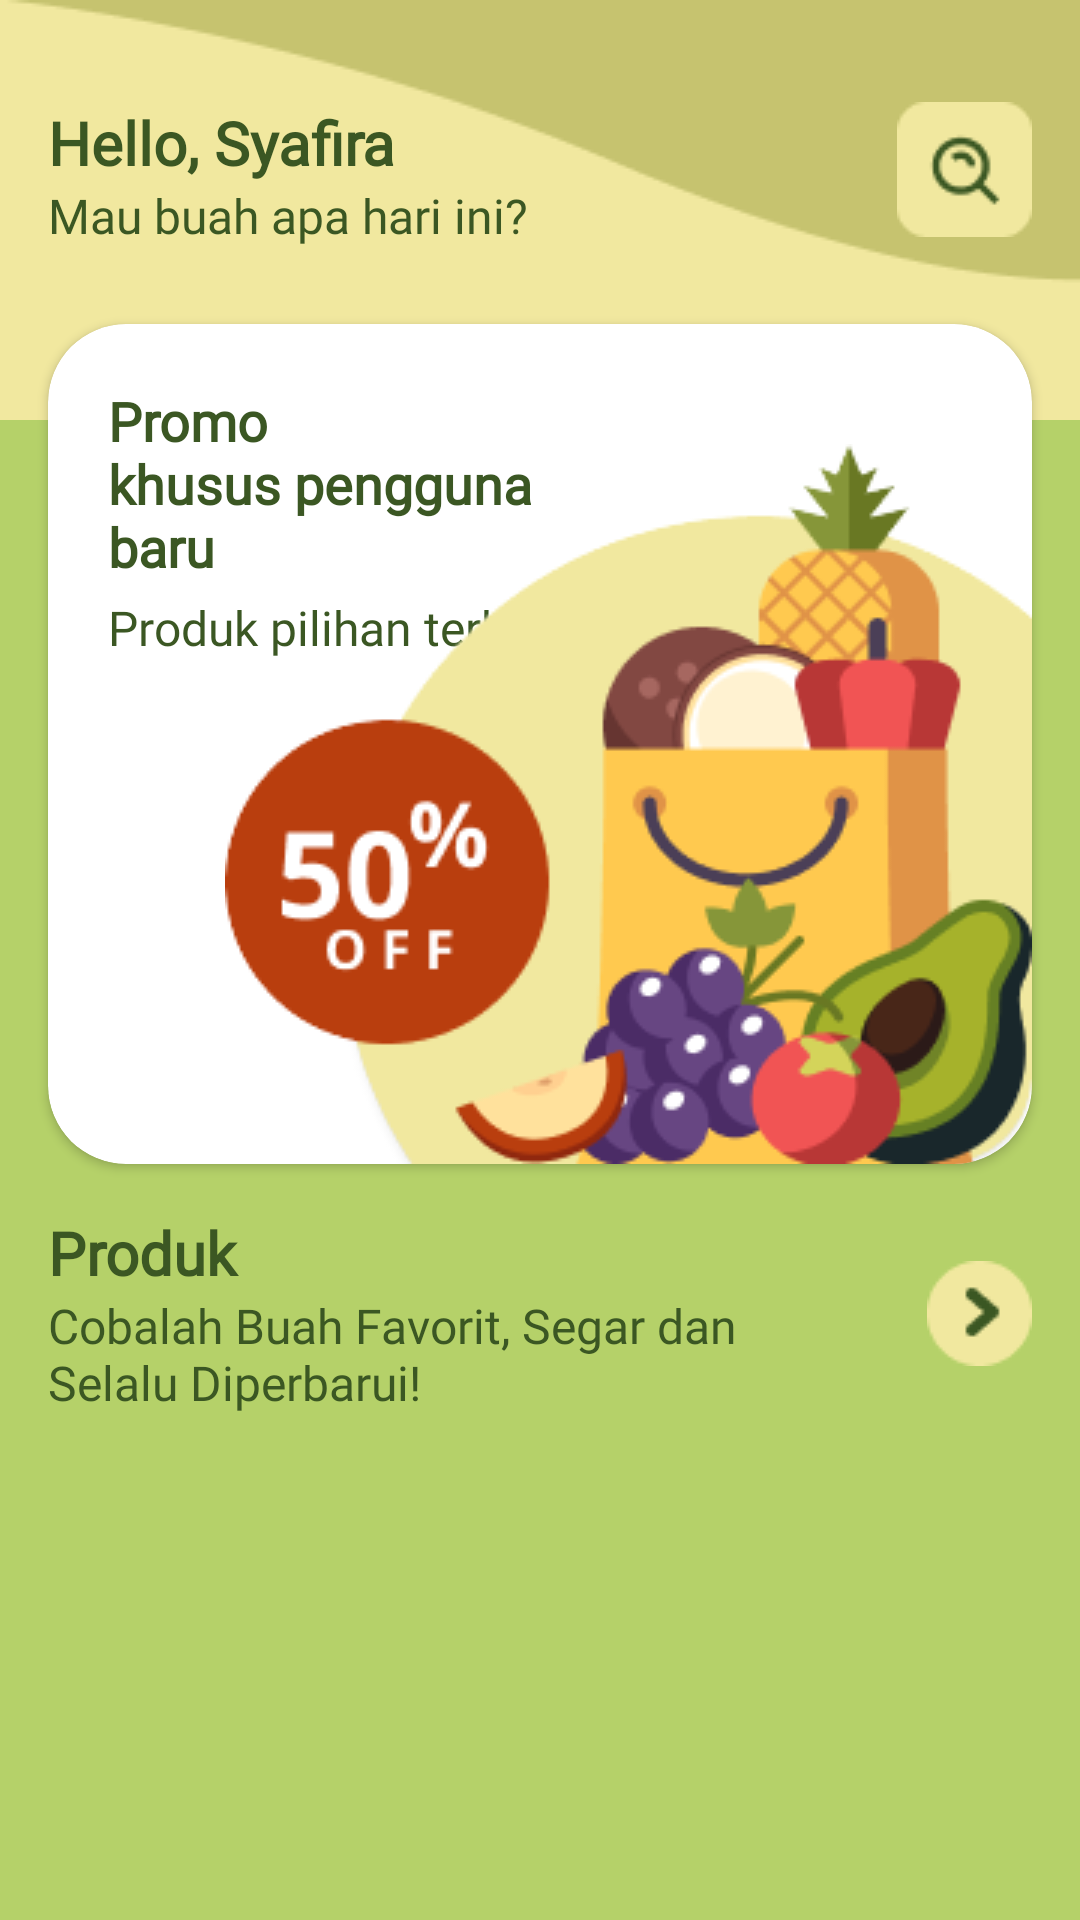

Icon bounding boxes for this 1080px x 1920px phone screenshot, format (x1, y1, x2, y2):
arrow right: (927, 1261, 1032, 1366)
search: (897, 102, 1032, 237)
